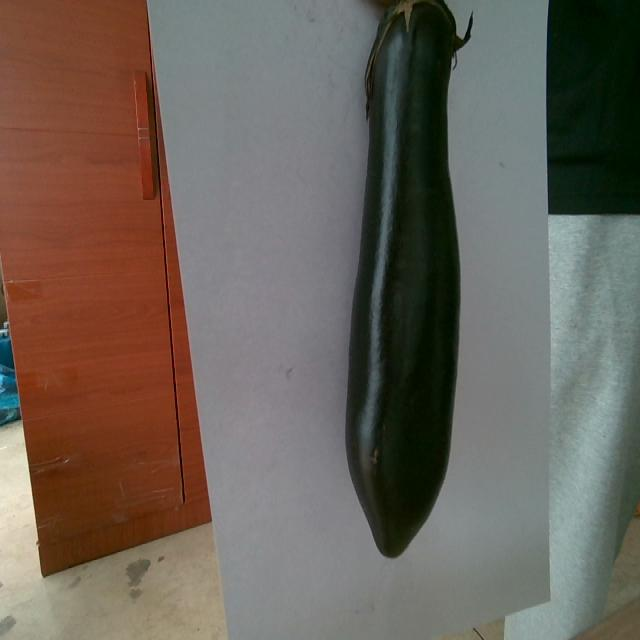Egg plant: (346, 0, 471, 556)
